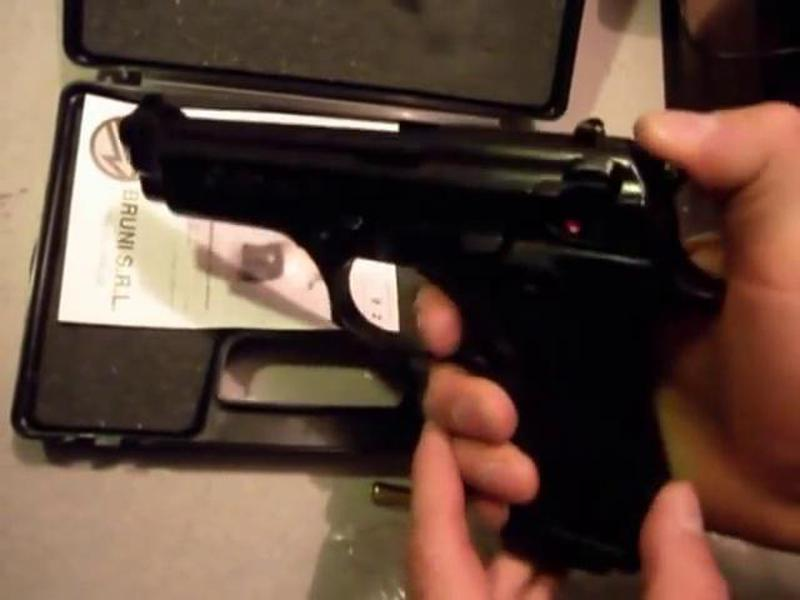Pistola: (112, 74, 718, 574)
